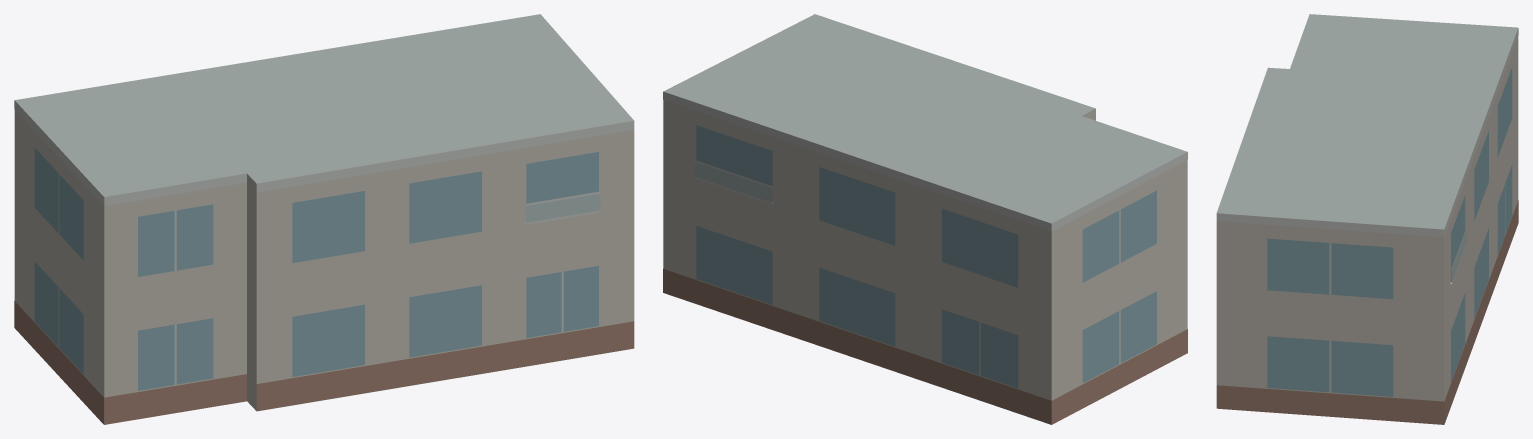
File: survey-upis-32655243.glb
3 renders of one model, left to right at view 1: azimuth 30°, elevation 25°; view 2: azimuth 150°, elevation 25°; view 3: azimuth 270°, elevation 25°, orthographic. The views are drawn at different scales.
Parts seen in each view (by area): view 1: survey-upis-32655243.tmp; view 2: survey-upis-32655243.tmp; view 3: survey-upis-32655243.tmp.
Part boxes in pixels (box(x1,y1,x2,y2)): survey-upis-32655243.tmp: box(14, 14, 634, 424); survey-upis-32655243.tmp: box(663, 14, 1187, 424); survey-upis-32655243.tmp: box(1216, 14, 1518, 424).
Bounding box in the file's own units: 14.45 × 6.1 × 8.56.
